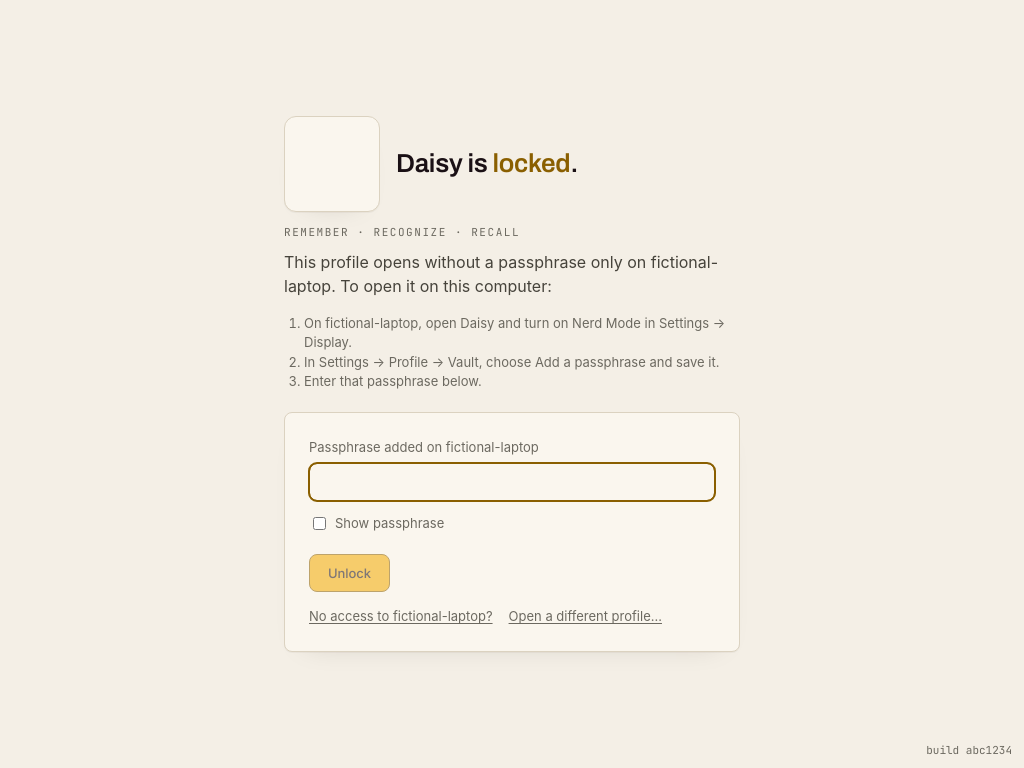
Test: Unlock › warns that a reset reaches the other computer
This screenshot has width=1024, height=768.
Step 1. Click the button "No access to fictional-laptop?" → (401, 617), box [309,606,493,627]
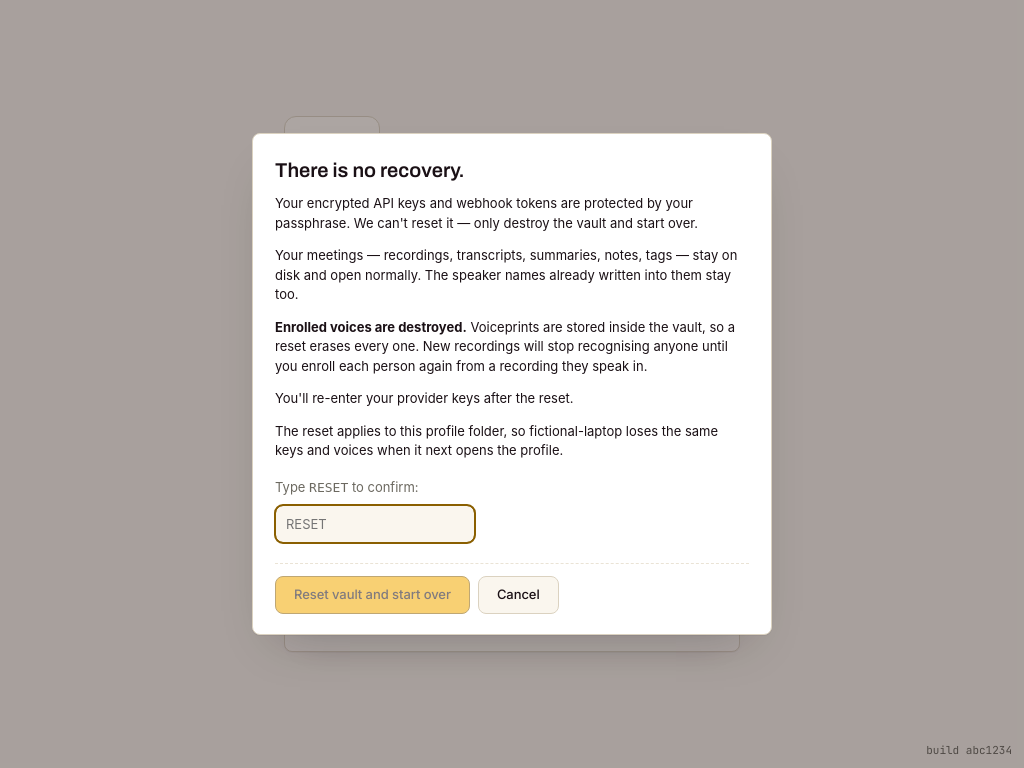
Result: the text with test id "unlock-reset-shared" shows "fictional-laptop loses the same keys" at [275,422,749,461]
